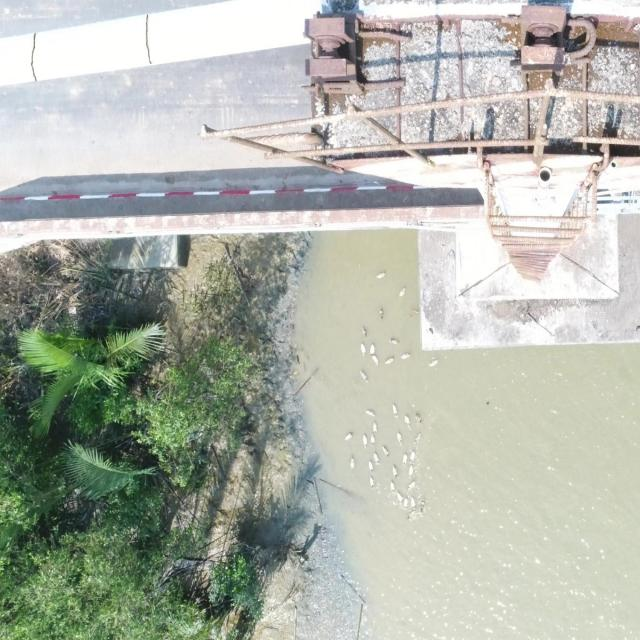crack: (28, 33, 38, 82), (144, 14, 152, 64)
